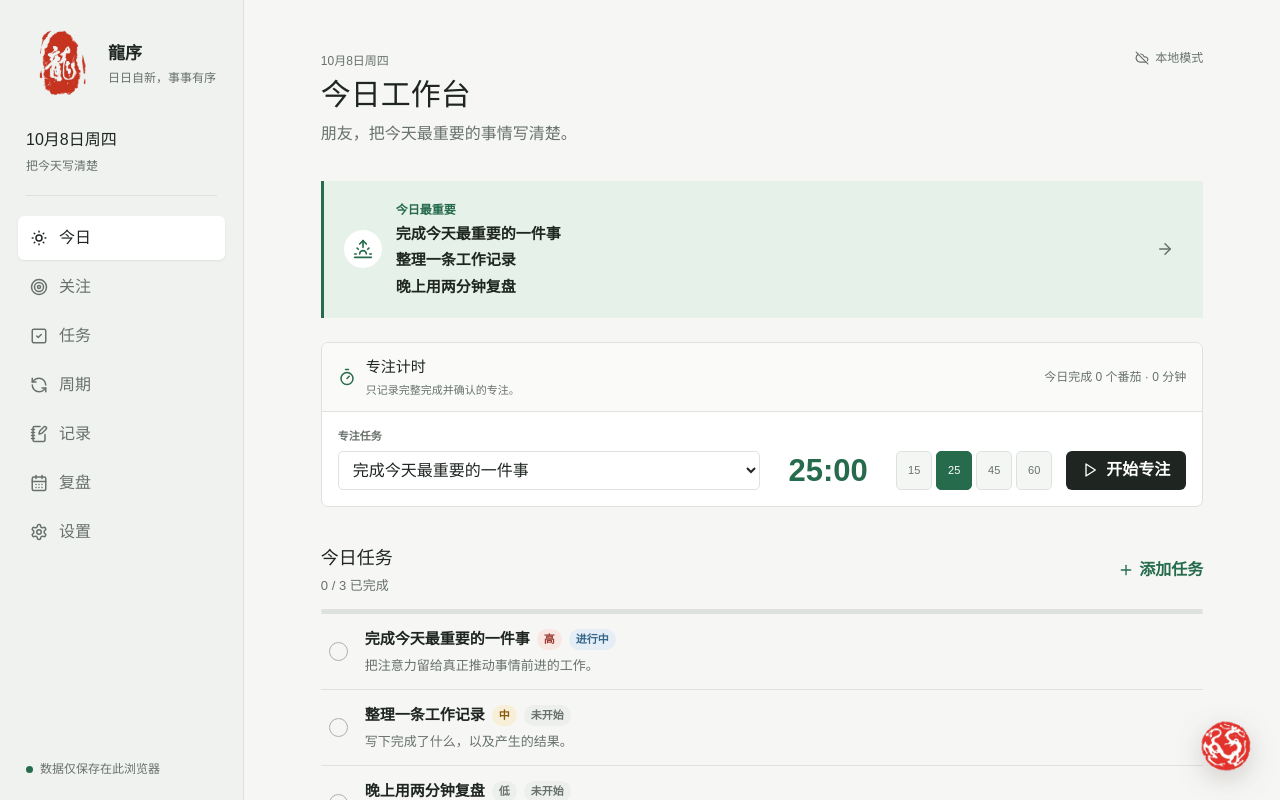
Test case: workbench navigation › shows the current version and release notes in settings
Expected: the heading "今日工作台" is shown, [321,78,471,111]
Click the button "设置". click: (122, 532)
box: [18,510,225,554]
(page scrolled)
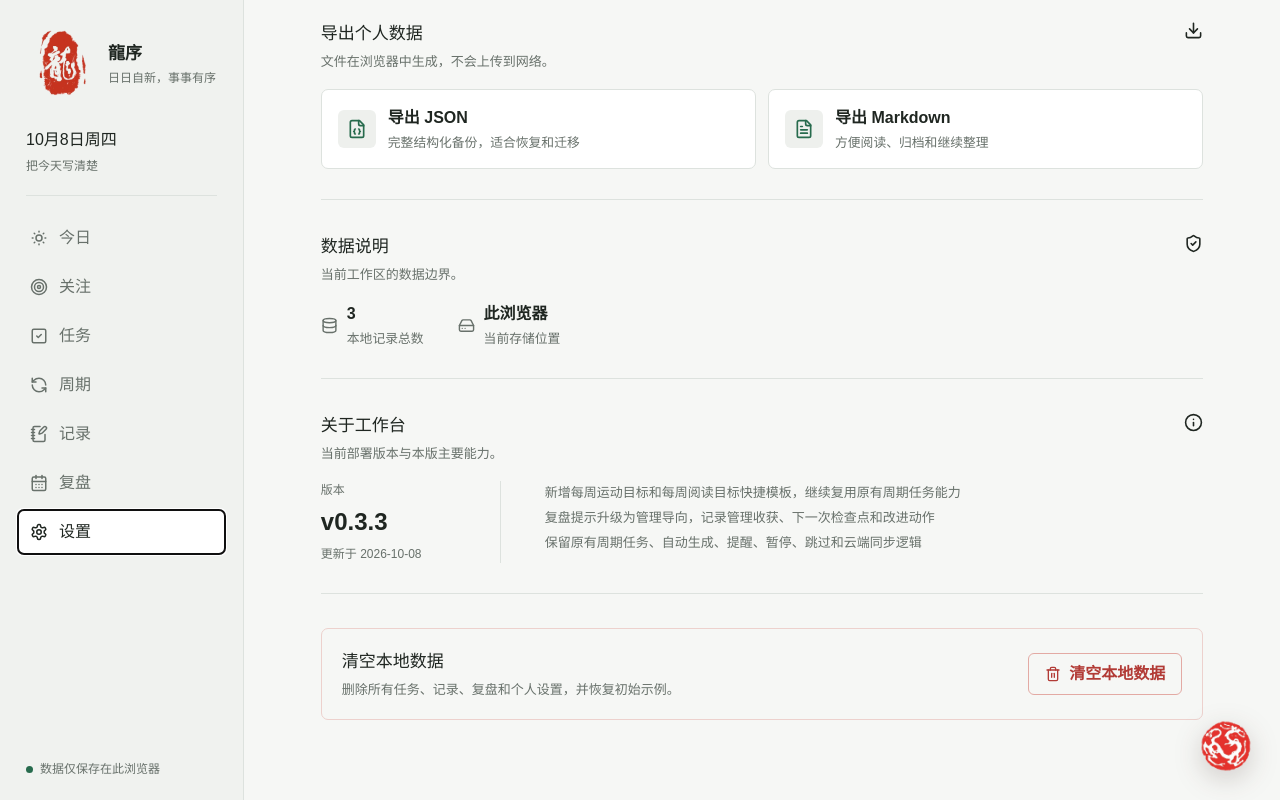
Result: the heading "关于工作台" is shown at [321,416,406,435]
Result: the list item "新增每周运动目标和每周阅读目标快捷模板，继续复用原有周期任务能力" is shown at [545,485,961,500]
Result: the list item "复盘提示升级为管理导向，记录管理收获、下一次检查点和改进动作" is shown at [545,510,935,525]
